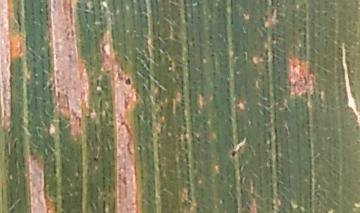tarspot: (121, 73, 133, 87), (229, 147, 238, 159)
